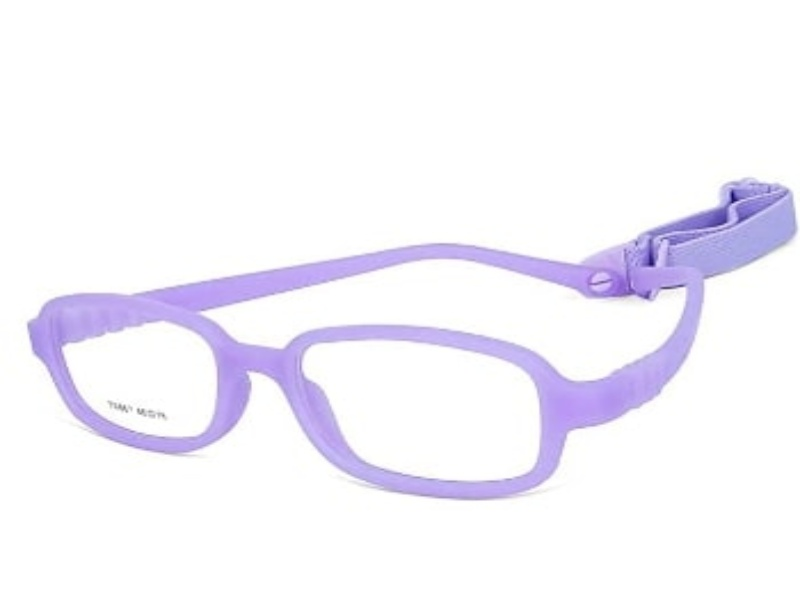goggles: (26, 293, 571, 499), (174, 320, 343, 461), (490, 338, 604, 511)
